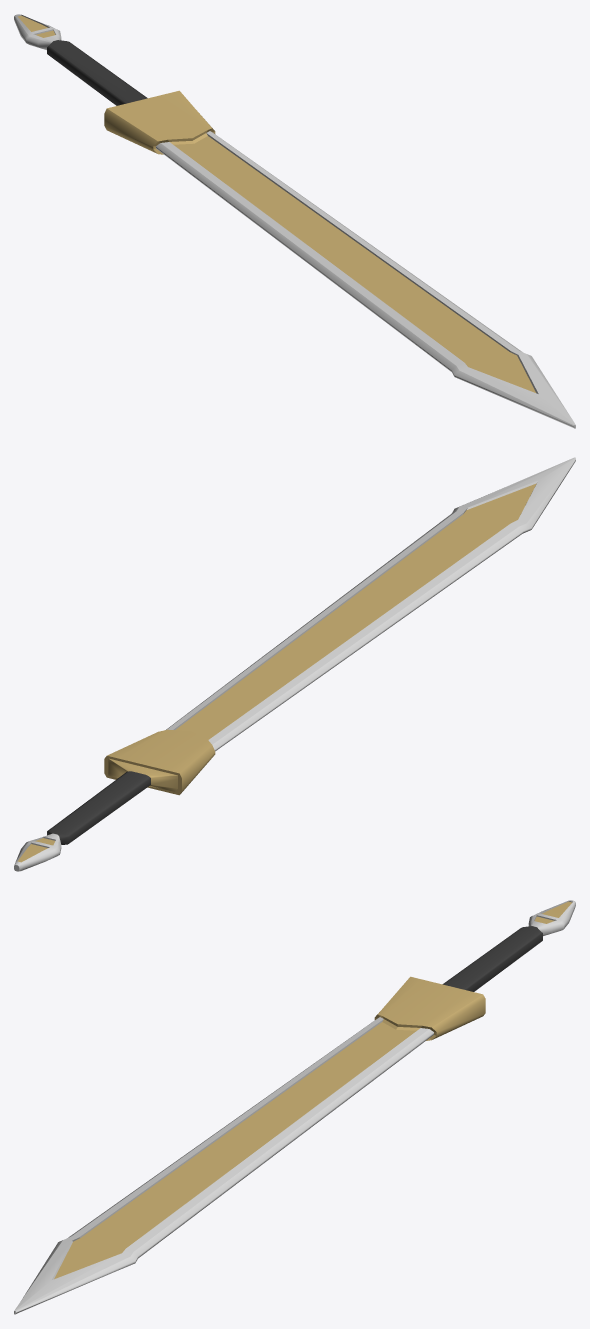
Rendered from sword01.fbx.
3 renders of one model, top to bottom at view 1: azimuth 30°, elevation 25°; view 2: azimuth 150°, elevation 25°; view 3: azimuth 330°, elevation 25°, orthographic.
Visible parts, largest first — view 1: sword; view 2: sword; view 3: sword.
Boxes of the visible parts, <box> form: sword: <box>14,14,575,428</box>; sword: <box>14,457,575,871</box>; sword: <box>14,900,575,1314</box>.
Size of the model in its own units: 0.5261 by 0.1424 by 6.57.
